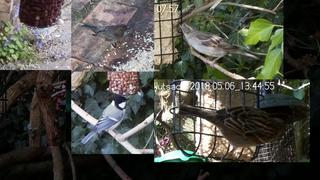blackbird: (80, 24, 130, 51)
great tit: (81, 96, 130, 145)
sparrow: (178, 103, 286, 153), (178, 22, 259, 69)
